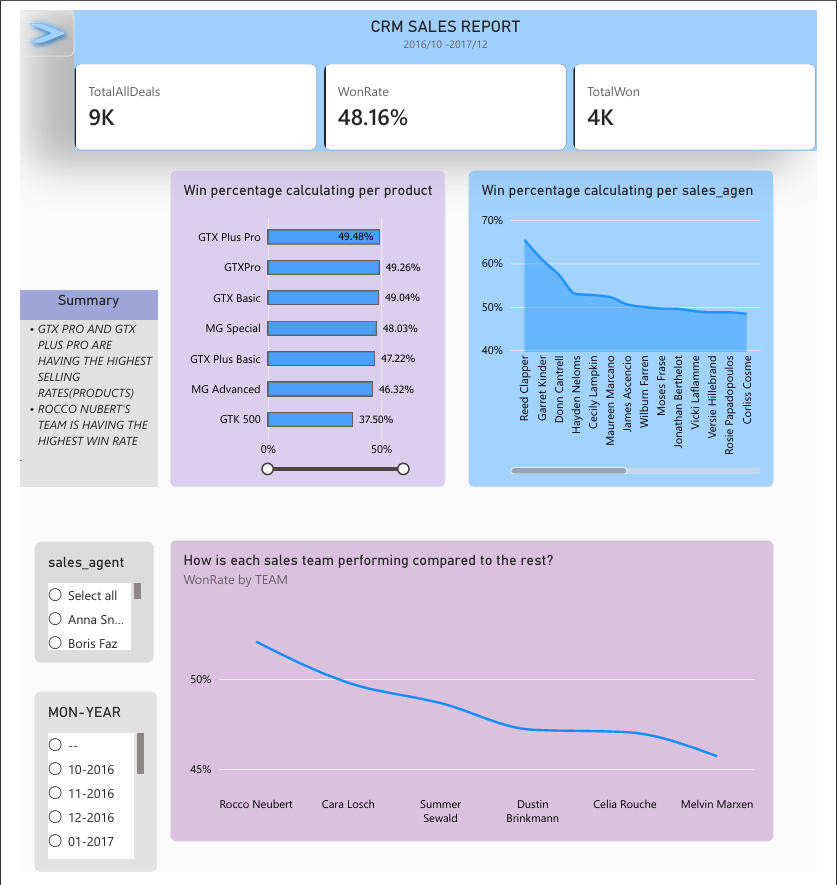

The page's visual inventory and layout, read from the dashboard file:
{"tool":"powerbi","page":{"name":"HOME","canvas":[1000,1080],"ordinal":0},"visuals":[{"type":"cardVisual","title":"CRM SALES REPORT","fields":{"Data":["SALES.TotalAllDeals","SALES.WonRate","SALES.TotalWon"]},"box":[68,0,932,176],"z":0},{"type":"clusteredBarChart","title":"Win percentage calculating per product","fields":{"Category":["SALES.product"],"Y":["SALES.WonRate"]},"box":[188,200,346,398],"z":1000},{"type":"lineChart","title":"Win percentage calculating per sales_agen","fields":{"Category":["SALES.sales_agent"],"Y":["SALES.WonRate"]},"box":[562,200,384,398],"z":2000},{"type":"lineChart","title":"How is each sales team performing compared to the rest?","fields":{"Category":["SALES.manager"],"Y":["SALES.WonRate"]},"box":[188,664,758,378],"z":3000},{"type":"textbox","title":"Summary","box":[0,351.7,171.7,246.7],"z":4000},{"type":"actionButton","title":"<-Back","box":[0,0,68.3,58.3],"z":5000},{"type":"listSlicer","fields":{"Values":["SALES.sales_agent"]},"box":[18,666,150,152],"z":6000},{"type":"listSlicer","fields":{"Values":["SALES.MON-YEAR"]},"box":[18,854,154,226],"z":7000}]}

Visuals, with their boxes on the page's 1000x1080 design canvas (x1, y1, x2, y2). These are canvas units, not pixel positions in the 837x885 screenshot, which may show the page scaled, cropped or inside an application window:
"CRM SALES REPORT" cardVisual: (68,0,1000,176)
"Win percentage calculating per product" clusteredBarChart: (188,200,534,598)
"Win percentage calculating per sales_agen" lineChart: (562,200,946,598)
"How is each sales team performing compared to the rest?" lineChart: (188,664,946,1042)
"Summary" textbox: (0,352,172,598)
"<-Back" actionButton: (0,0,68,58)
listSlicer - SALES.sales_agent: (18,666,168,818)
listSlicer - SALES.MON-YEAR: (18,854,172,1080)
